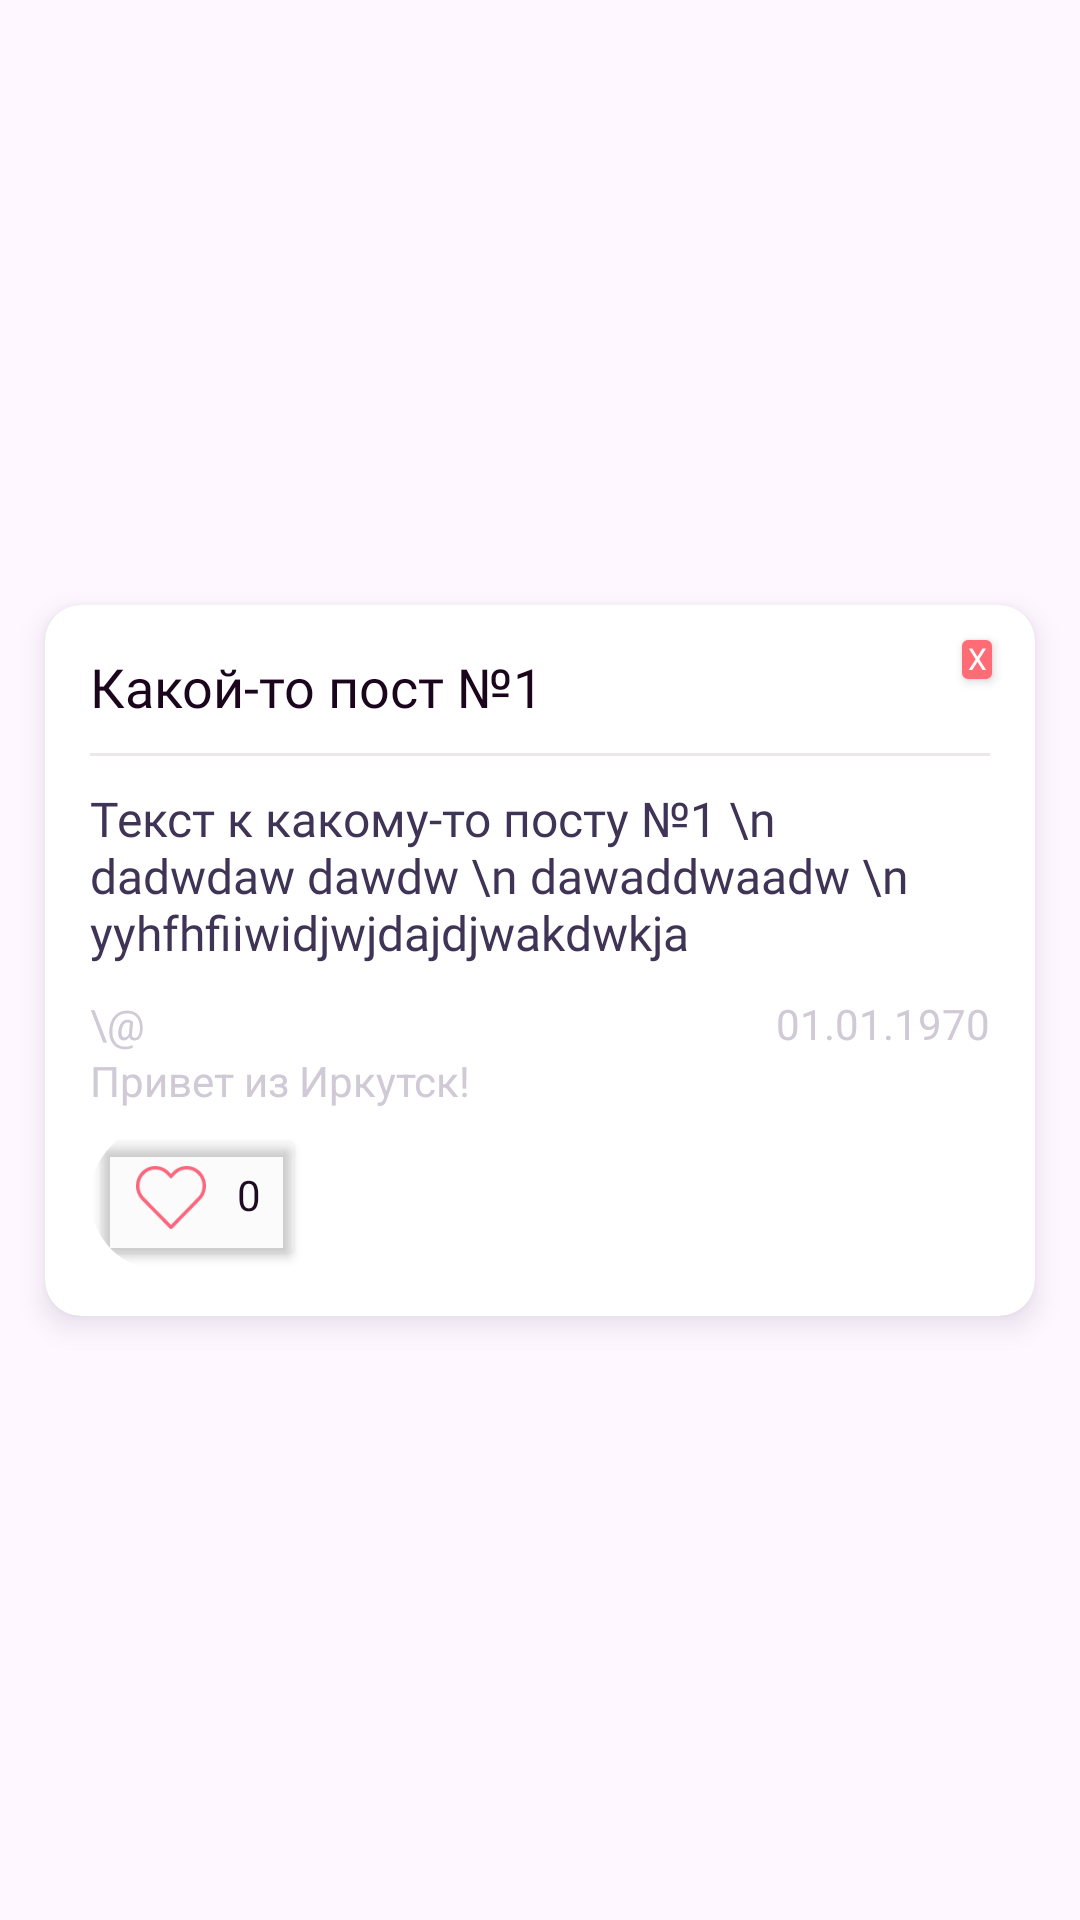

Icons on this 1080 x 1920 Android screen, each with its box as (x1, y1, x2, y2):
heart like: (136, 1166, 206, 1229)
